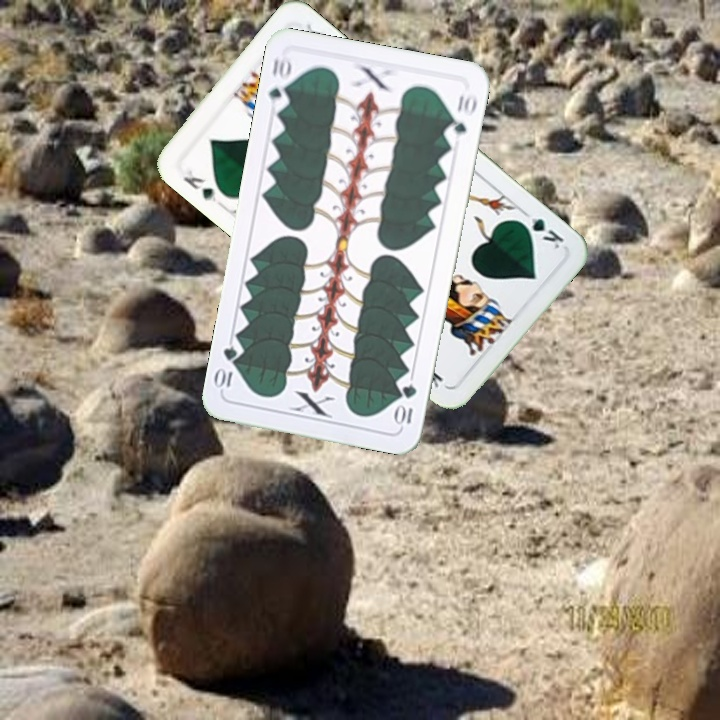G10: (264, 52, 294, 112), (393, 380, 419, 429)
GK: (513, 206, 567, 252), (179, 165, 221, 205)
